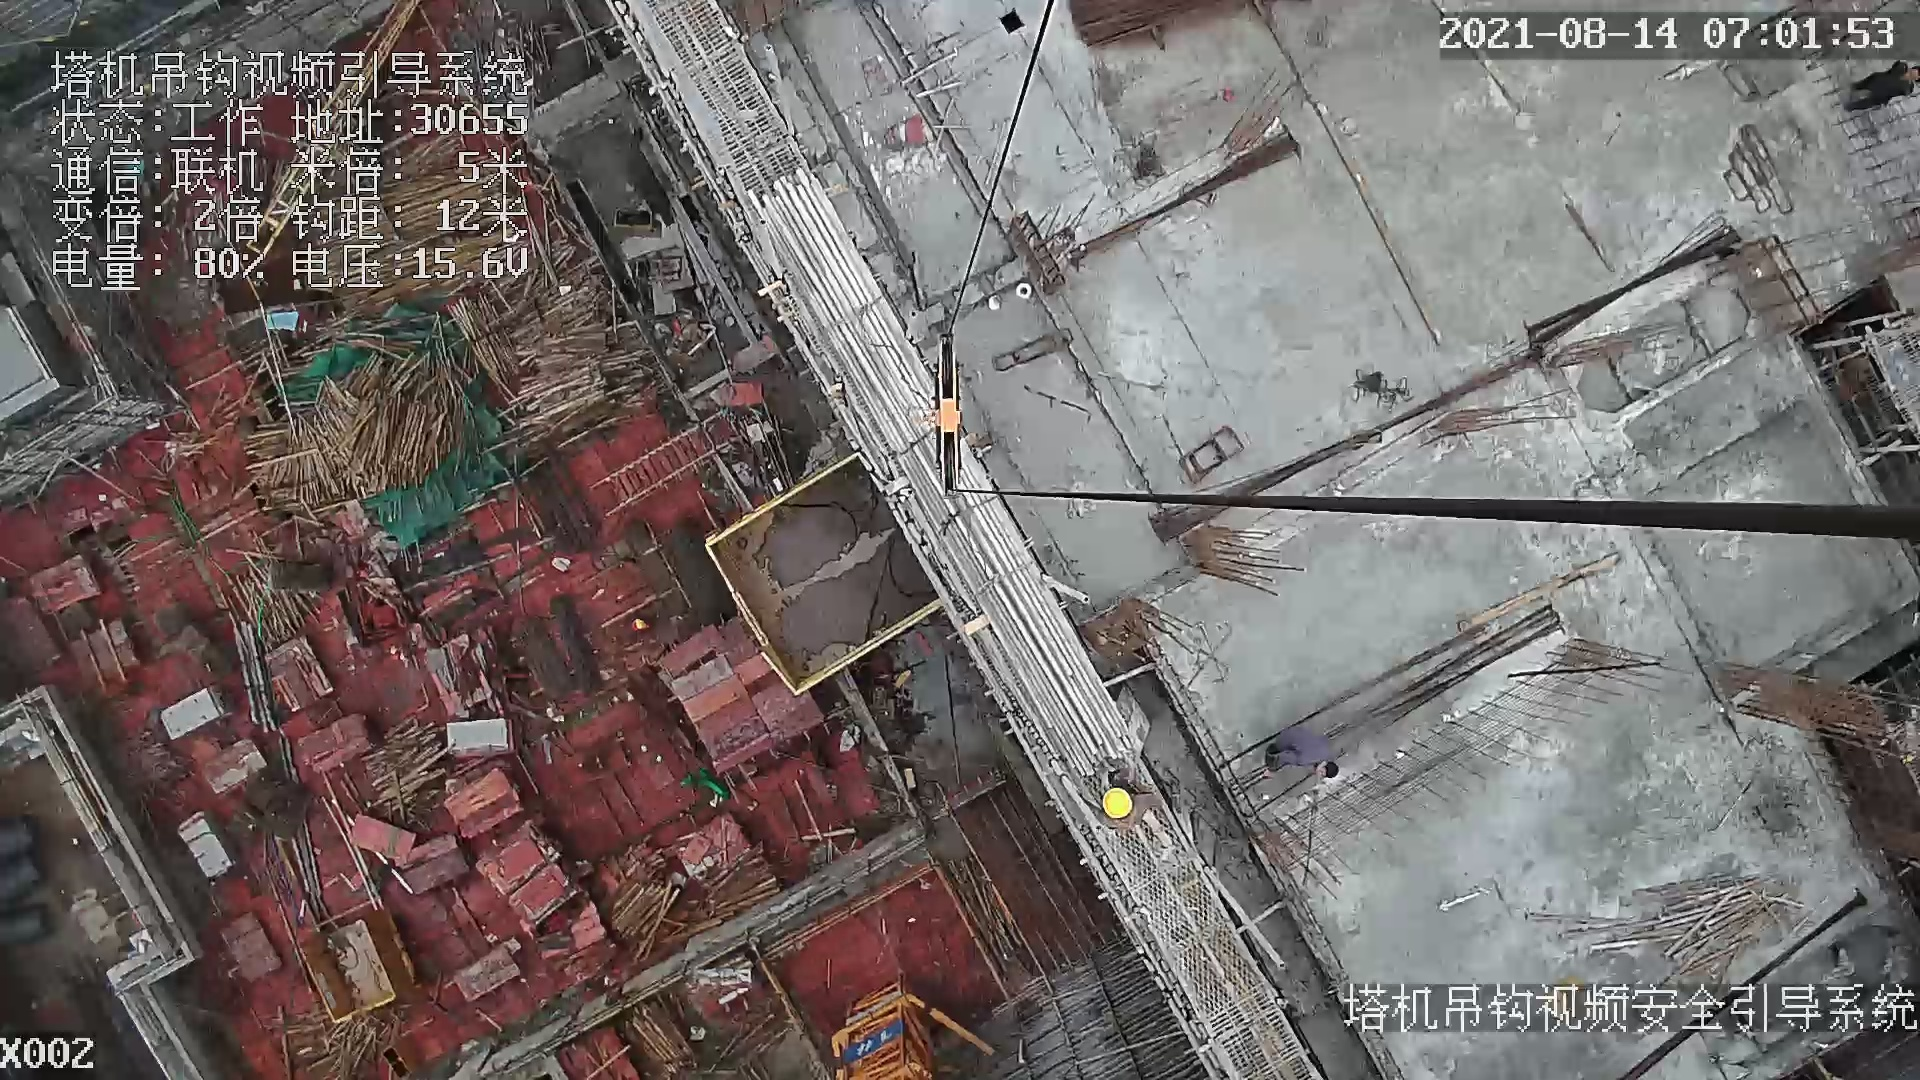helmet: (1101, 784, 1138, 825)
hook: (924, 330, 985, 481)
person: (1263, 727, 1345, 782), (1088, 781, 1169, 826)
